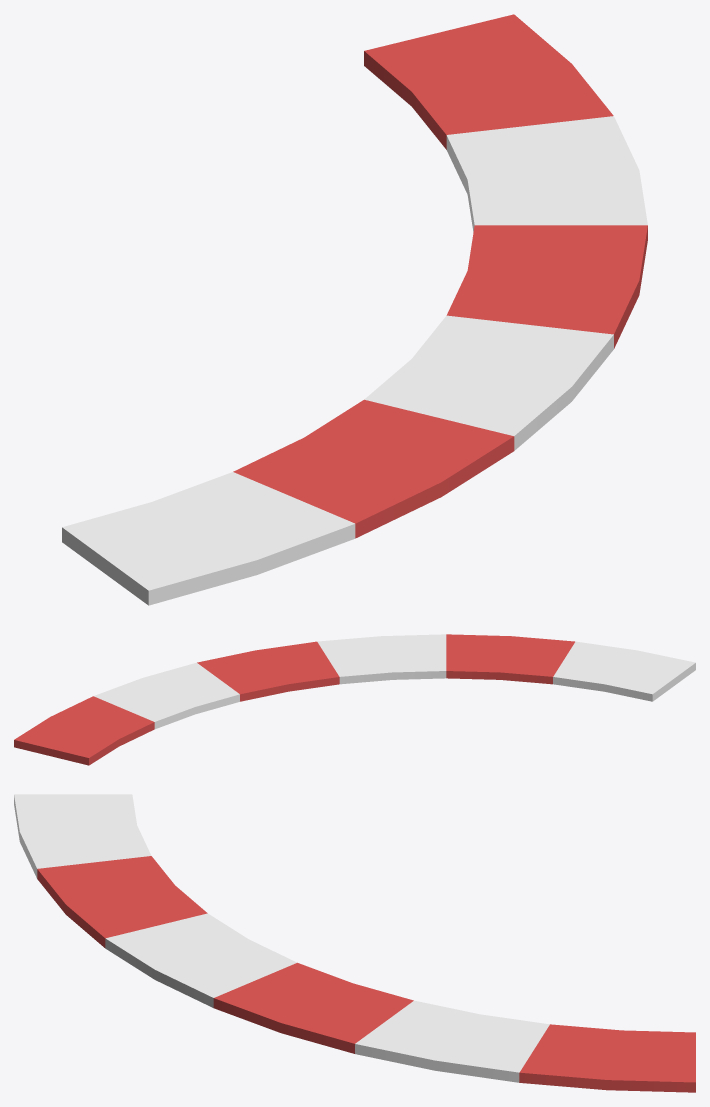
File: roadCornerSmallBorder.obj
3 renders of one model, top to bottom at view 1: azimuth 30°, elevation 25°; view 2: azimuth 150°, elevation 25°; view 3: azimuth 270°, elevation 25°, orthographic. The views are drawn at different scales.
Parts seen in each view (by area): view 1: roadCornerSmallBorder; view 2: roadCornerSmallBorder; view 3: roadCornerSmallBorder.
Boxes of the visible parts, x1=… form: roadCornerSmallBorder: x1=62, y1=14, x2=647, y2=605; roadCornerSmallBorder: x1=14, y1=634, x2=695, y2=765; roadCornerSmallBorder: x1=14, y1=794, x2=695, y2=1092.
Bounding box in the file's own units: 1.21 × 0.02 × 1.21.
